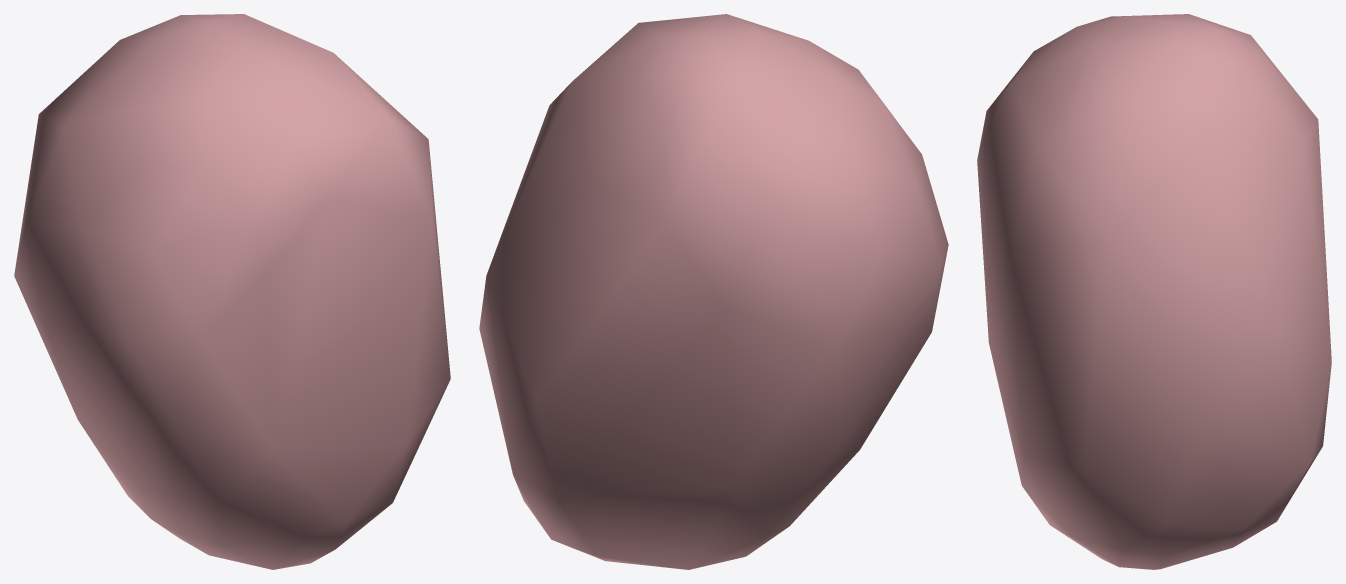
File: fma55562_fj3675.glb
3 renders of one model, left to right at view 1: azimuth 30°, elevation 25°; view 2: azimuth 150°, elevation 25°; view 3: azimuth 270°, elevation 25°, orthographic. The views are drawn at different scales.
Visible parts, largest first — view 1: FMA55562_FJ3675; view 2: FMA55562_FJ3675; view 3: FMA55562_FJ3675.
Boxes of the visible parts, x1,y1,x2,y2 form: FMA55562_FJ3675: [14, 14, 450, 569]; FMA55562_FJ3675: [479, 14, 948, 569]; FMA55562_FJ3675: [977, 14, 1331, 569].
Size of the model in its own units: 0.00499 by 0.00664 by 0.00421.
